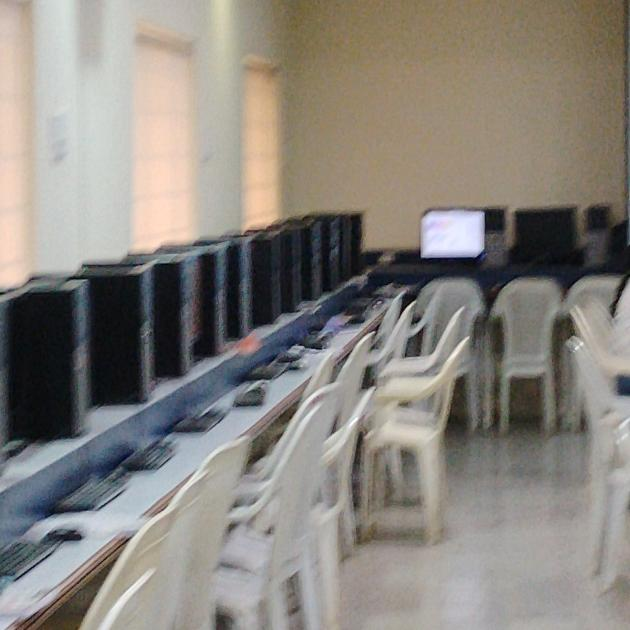cpu: (24, 271, 122, 440), (145, 237, 216, 365), (254, 228, 294, 326)
